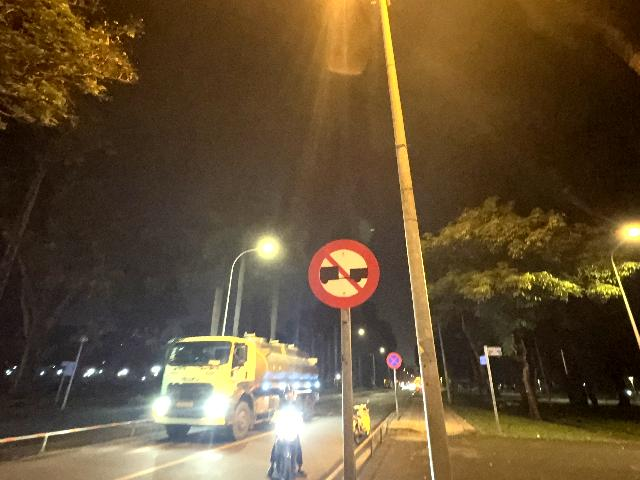cam-xe-somi-romooc: (308, 238, 380, 309)
